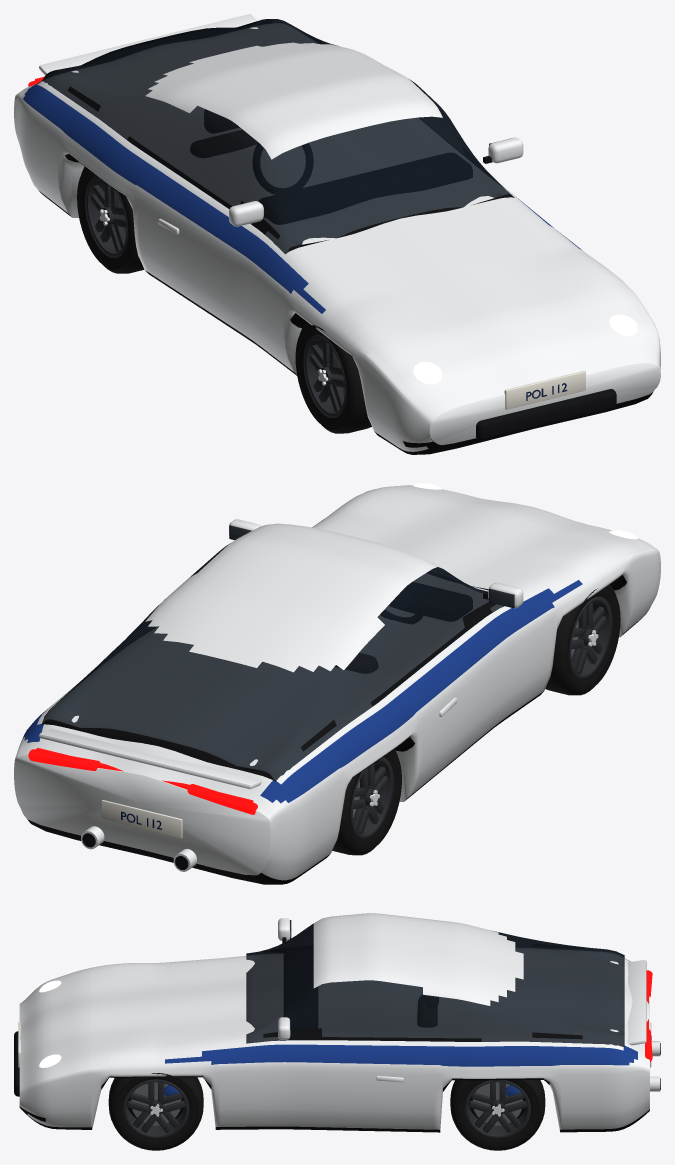
Rendered from patrulla.glb.
3 renders of one model, top to bottom at view 1: azimuth 30°, elevation 25°; view 2: azimuth 150°, elevation 25°; view 3: azimuth 270°, elevation 25°, orthographic. The views are drawn at different scales.
Parts seen in each view (by area): view 1: body, wheel_FL, wheel_RL; view 2: body, wheel_FL, wheel_RL; view 3: body, wheel_FR, wheel_RR.
Boxes of the visible parts, x1,y1,x2,y2 form: body: [14, 14, 660, 454]; wheel_FL: [295, 322, 371, 433]; wheel_RL: [77, 167, 144, 273]; body: [14, 483, 660, 884]; wheel_FL: [545, 584, 620, 695]; wheel_RL: [332, 749, 401, 855]; body: [14, 913, 660, 1132]; wheel_FR: [108, 1073, 203, 1150]; wheel_RR: [450, 1080, 545, 1150].
Bounding box in the file's own units: 1.88 × 1.29 × 4.64.
